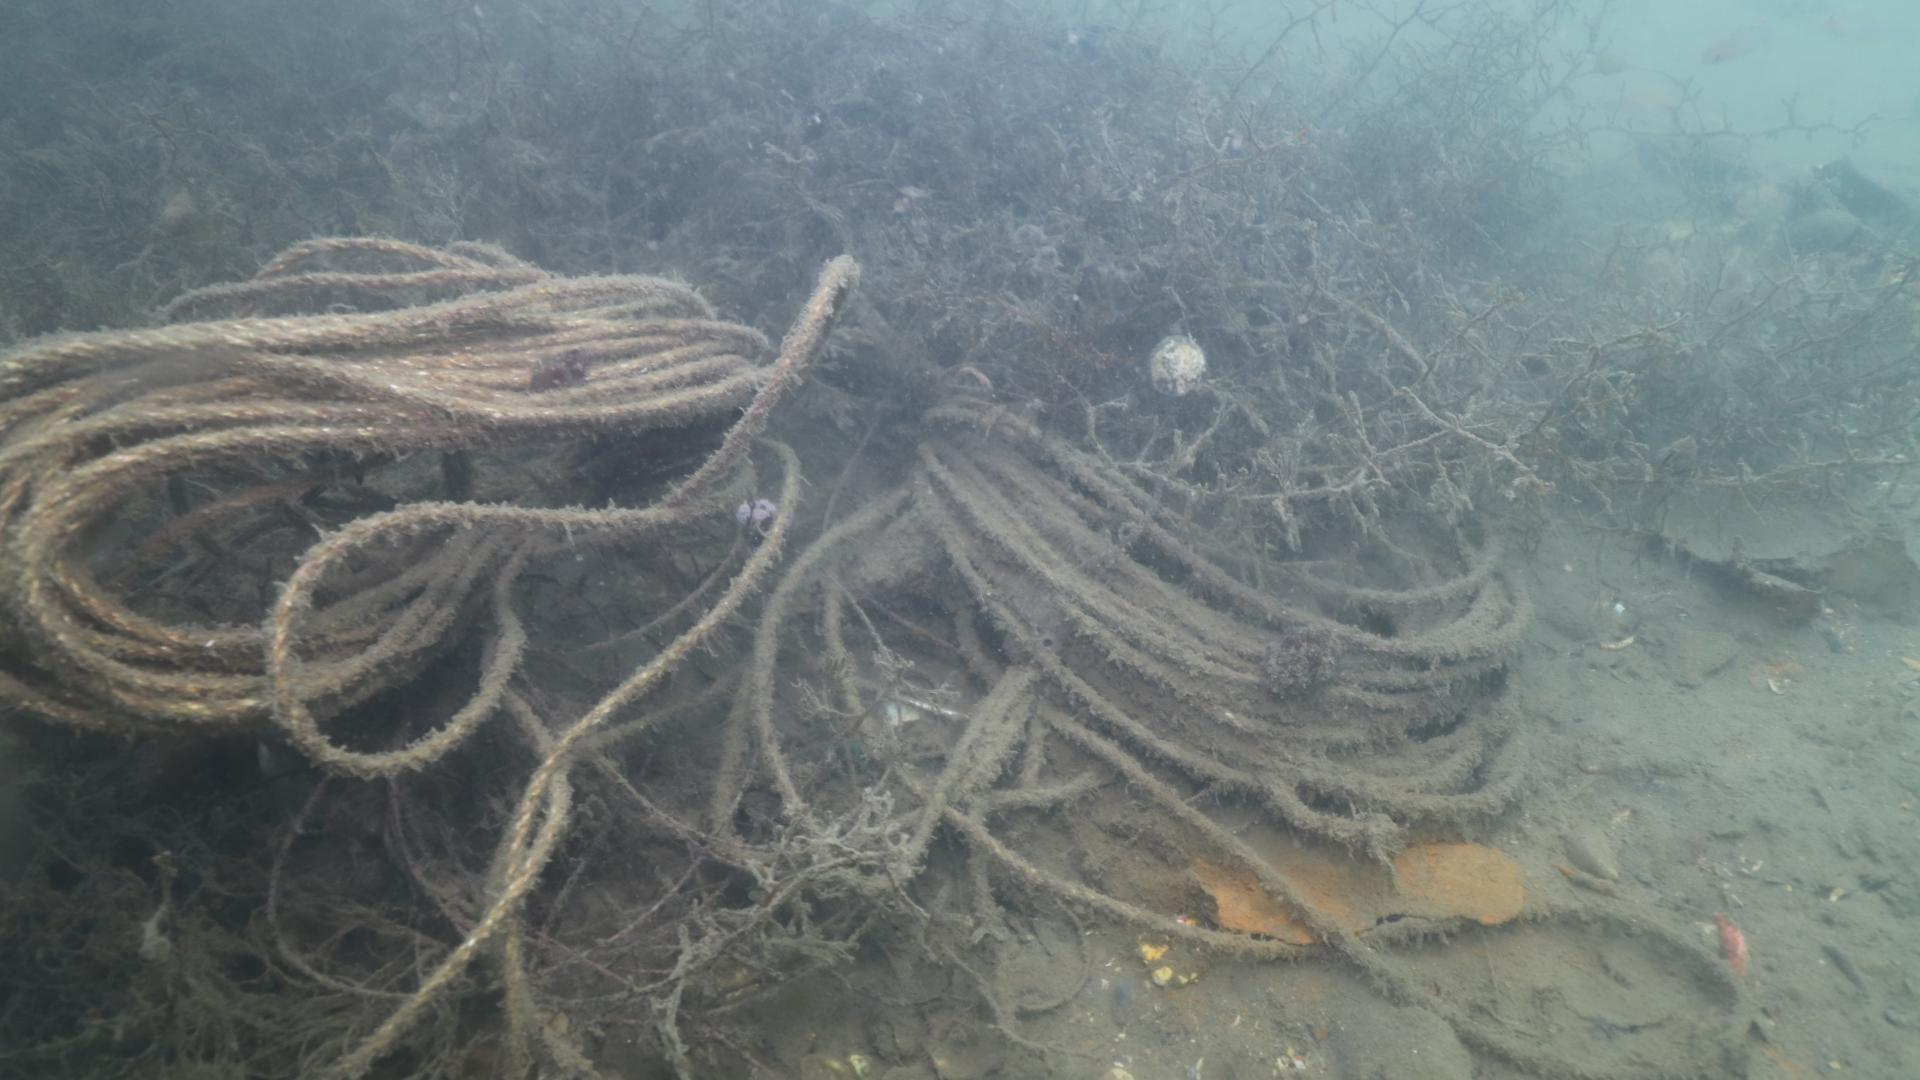bundle of ropes: (0, 223, 1756, 1080)
